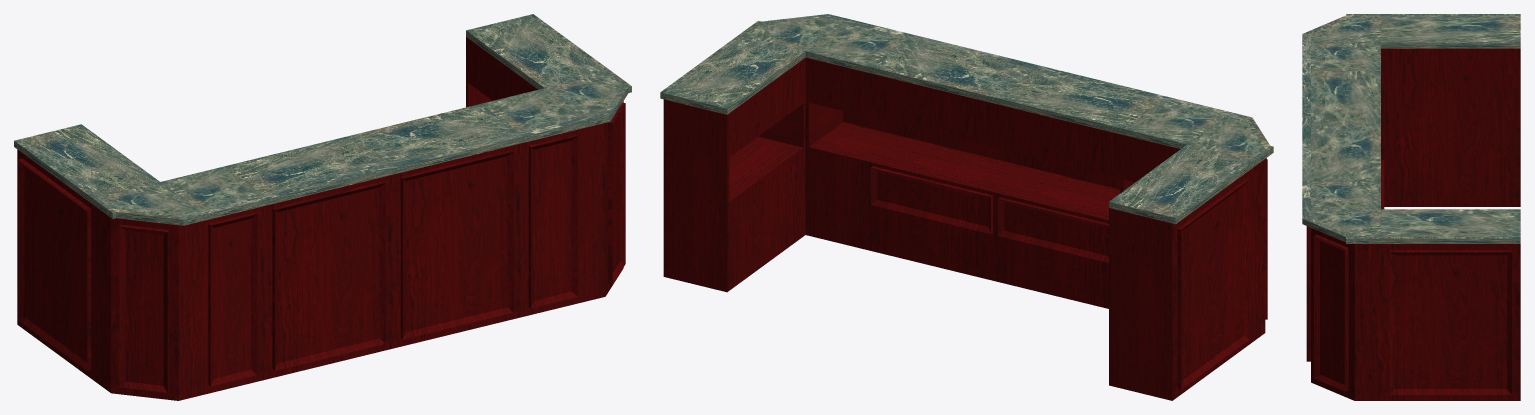
The model's file is reception_desk.FBX.
3 views of the same model, side by side, from view 1: azimuth 30°, elevation 25°; view 2: azimuth 150°, elevation 25°; view 3: azimuth 270°, elevation 25° (orthographic). The views are drawn at different scales.
Parts seen in each view (by area): view 1: Box001; view 2: Box001; view 3: Box001.
Part boxes in pixels (left/top/right/bottom): Box001: left=14, top=14, right=631, bottom=400; Box001: left=660, top=14, right=1273, bottom=400; Box001: left=1302, top=14, right=1520, bottom=400.
Size of the model in its own units: 305 by 103 by 125.
Materials: 2 (2 with a texture image).
